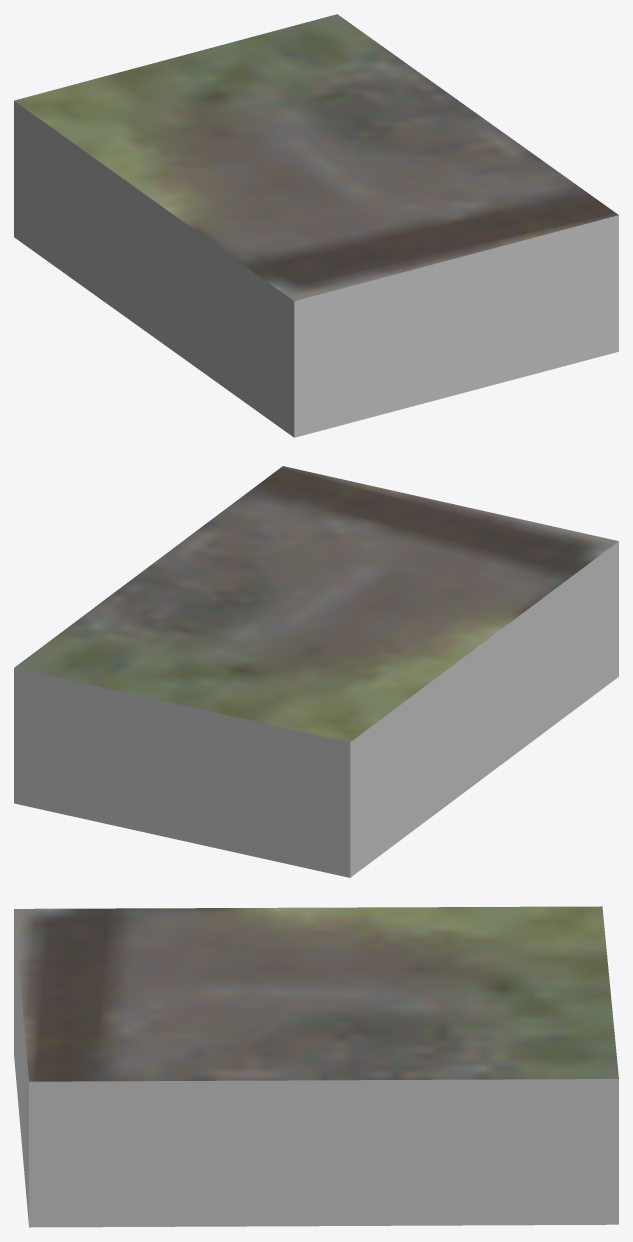
Rendered from DEBW_0010007Tx9f.gltf.
3 renders of one model, top to bottom at view 1: azimuth 30°, elevation 25°; view 2: azimuth 150°, elevation 25°; view 3: azimuth 270°, elevation 25°, orthographic. The views are drawn at different scales.
Parts seen in each view (by area): view 1: Z_UP; view 2: Z_UP; view 3: Z_UP.
Boxes of the visible parts, <box> form: Z_UP: <box>14,14,618,437</box>; Z_UP: <box>14,466,618,877</box>; Z_UP: <box>14,906,618,1227</box>.
Size of the model in its own units: 5.77 by 2.24 by 8.42.
2 materials, 1 textured.
